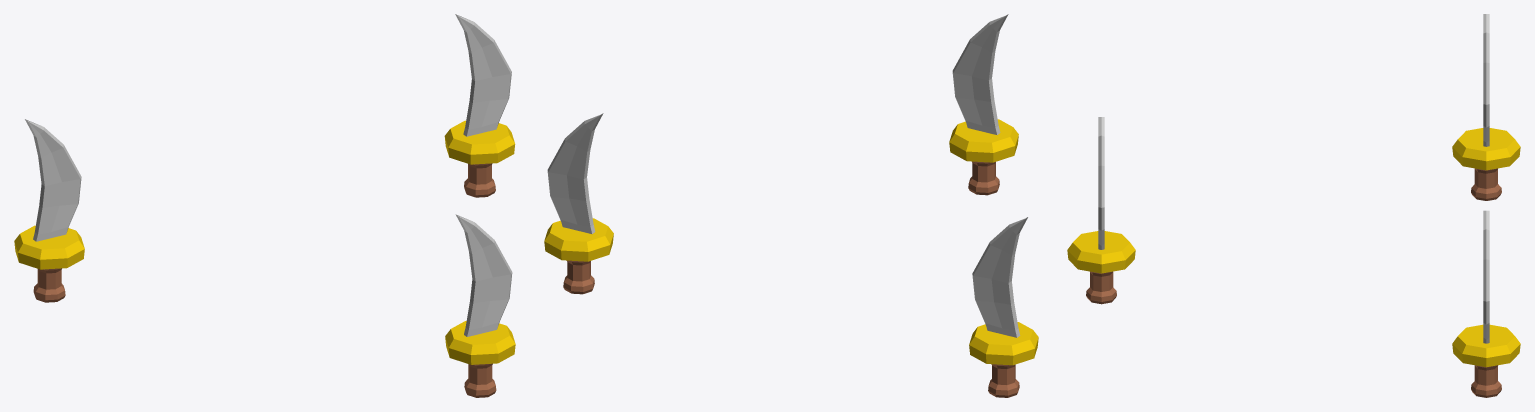
The model's file is sugori_knife.glb.
3 views of the same model, side by side, from view 1: azimuth 30°, elevation 25°; view 2: azimuth 150°, elevation 25°; view 3: azimuth 270°, elevation 25° (orthographic). The views are drawn at different scales.
Parts seen in each view (by area): view 1: SugoriKnifeLeft, SugoriKnifeCenter, SugoriKnifeRight; view 2: SugoriKnifeCenter, SugoriKnifeRight, SugoriKnifeLeft; view 3: SugoriKnifeRight, SugoriKnifeCenter, SugoriKnifeLeft.
Boxes of the visible parts, x1,y1,x2,y2 form: SugoriKnifeLeft: (14, 119, 84, 302); SugoriKnifeCenter: (445, 214, 515, 397); SugoriKnifeRight: (444, 14, 515, 197); SugoriKnifeCenter: (949, 14, 1018, 195); SugoriKnifeRight: (544, 113, 613, 294); SugoriKnifeLeft: (969, 217, 1038, 397); SugoriKnifeRight: (1452, 210, 1520, 397); SugoriKnifeCenter: (1067, 117, 1135, 304); SugoriKnifeLeft: (1452, 14, 1520, 200).
Bounding box in the file's own units: 1.67 × 0.5878 × 1.42.
Materials: 1 (1 with a texture image).
